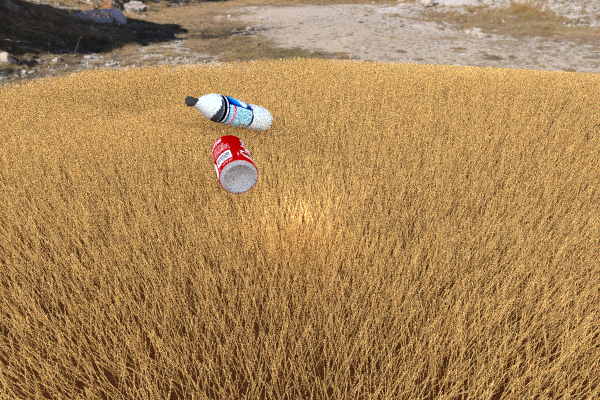bottle: (185, 93, 273, 131)
can: (211, 134, 258, 193), (529, 105, 600, 142)
